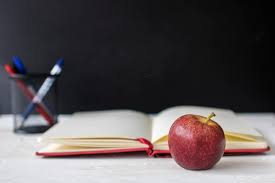apple: (164, 115, 229, 175)
